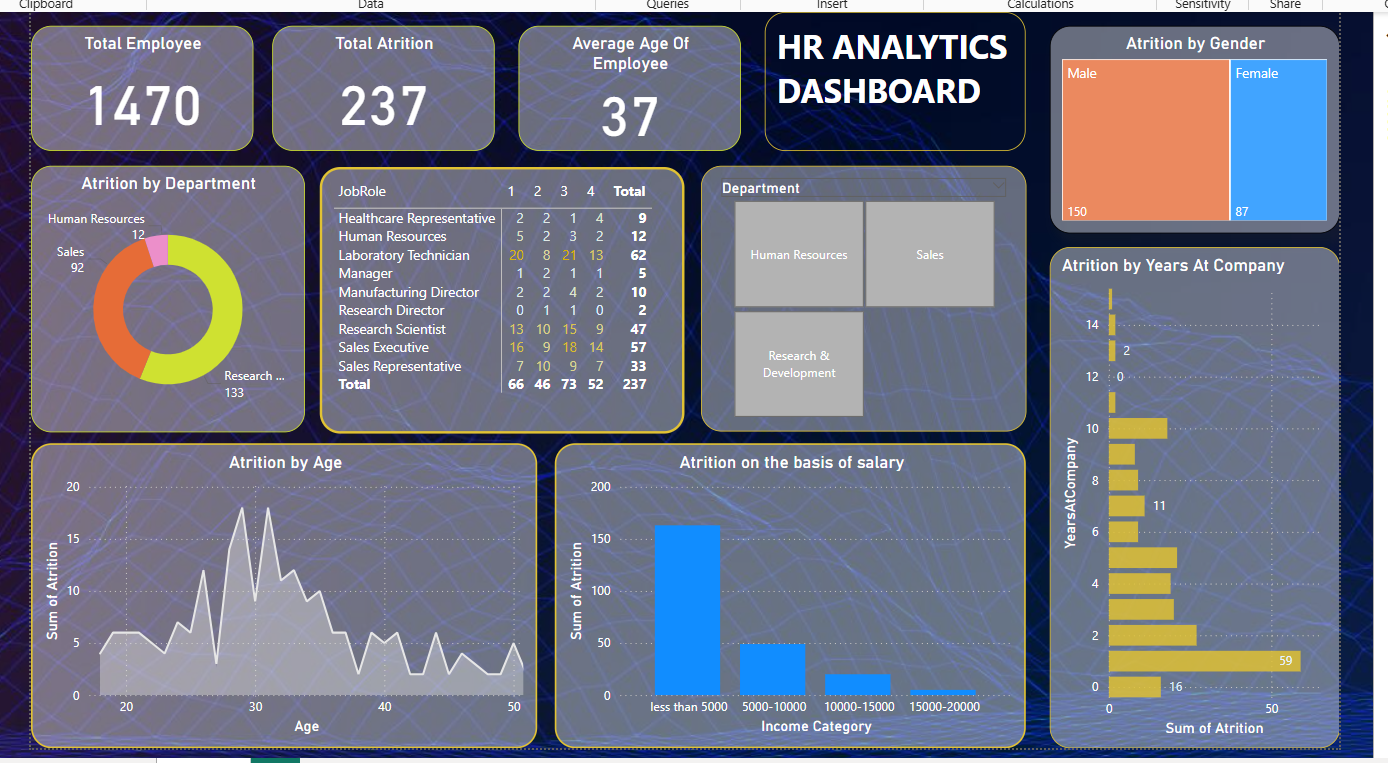

The page's visual inventory and layout, read from the dashboard file:
{"tool":"powerbi","page":{"name":"Page 1","canvas":[1280,720],"ordinal":0},"visuals":[{"type":"card","title":"Total Employee","fields":{"Values":["Sum(WA_Fn-UseC_-HR-Employee-Attrition.EmployeeCount)"]},"box":[0,13.5,217.7,122.3],"z":0},{"type":"card","title":"Total Atrition","fields":{"Values":["Sum(WA_Fn-UseC_-HR-Employee-Attrition.Atrition)"]},"box":[236,13.5,217.7,122.3],"z":1000},{"type":"card","title":"Average Age Of Employee","fields":{"Values":["Avg(WA_Fn-UseC_-HR-Employee-Attrition.Age)"]},"box":[476.9,13.5,217.7,122.3],"z":2000},{"type":"donutChart","title":"Atrition by Department","fields":{"Category":["WA_Fn-UseC_-HR-Employee-Attrition.Department"],"Y":["Sum(WA_Fn-UseC_-HR-Employee-Attrition.Atrition)"]},"box":[0,150.4,267.8,260.5],"z":3000},{"type":"treemap","title":"Atrition by Gender","fields":{"Group":["WA_Fn-UseC_-HR-Employee-Attrition.Gender"],"Values":["Sum(WA_Fn-UseC_-HR-Employee-Attrition.Atrition)"]},"box":[996.6,13.5,283.7,203],"z":4000},{"type":"areaChart","title":"Atrition by Age","fields":{"Category":["WA_Fn-UseC_-HR-Employee-Attrition.Age"],"Y":["Sum(WA_Fn-UseC_-HR-Employee-Attrition.Atrition)"]},"box":[0,421.9,495.2,298.4],"z":5000},{"type":"columnChart","title":"Atrition on the basis of salary","fields":{"Y":["Sum(WA_Fn-UseC_-HR-Employee-Attrition.Atrition)"],"Category":["WA_Fn-UseC_-HR-Employee-Attrition.Income Category"]},"box":[512.4,421.9,461,298.4],"z":6000},{"type":"pivotTable","fields":{"Rows":["WA_Fn-UseC_-HR-Employee-Attrition.JobRole"],"Columns":["WA_Fn-UseC_-HR-Employee-Attrition.JobSatisfaction"],"Values":["Sum(WA_Fn-UseC_-HR-Employee-Attrition.Atrition)"]},"box":[282.5,151.6,357.1,260.5],"z":7000},{"type":"barChart","title":"Atrition by Years At Company","fields":{"Category":["WA_Fn-UseC_-HR-Employee-Attrition.YearsAtCompany"],"Y":["Sum(WA_Fn-UseC_-HR-Employee-Attrition.Atrition)"]},"box":[996.6,229.9,283.7,490.4],"z":8000},{"type":"slicer","fields":{"Values":["WA_Fn-UseC_-HR-Employee-Attrition.Department"]},"box":[655,150,318,260],"z":9000},{"type":"textbox","box":[717.8,0,255.6,135.7],"z":10000}]}

Visuals, with their boxes in screenshot pixels (x1, y1, x2, y2):
"Total Employee" card: [left=33, top=14, right=260, bottom=142]
"Total Atrition" card: [left=279, top=14, right=506, bottom=142]
"Average Age Of Employee" card: [left=531, top=14, right=758, bottom=142]
"Atrition by Department" donutChart: [left=33, top=157, right=312, bottom=429]
"Atrition by Gender" treemap: [left=1074, top=14, right=1370, bottom=226]
"Atrition by Age" areaChart: [left=33, top=441, right=550, bottom=752]
"Atrition on the basis of salary" columnChart: [left=568, top=441, right=1049, bottom=752]
pivotTable - WA_Fn-UseC_-HR-Employee-Attrition.JobRole x WA_Fn-UseC_-HR-Employee-Attrition.JobSatisfaction: [left=328, top=158, right=701, bottom=430]
"Atrition by Years At Company" barChart: [left=1074, top=240, right=1370, bottom=752]
slicer - WA_Fn-UseC_-HR-Employee-Attrition.Department: [left=717, top=157, right=1049, bottom=428]
textbox: [left=782, top=0, right=1049, bottom=142]
